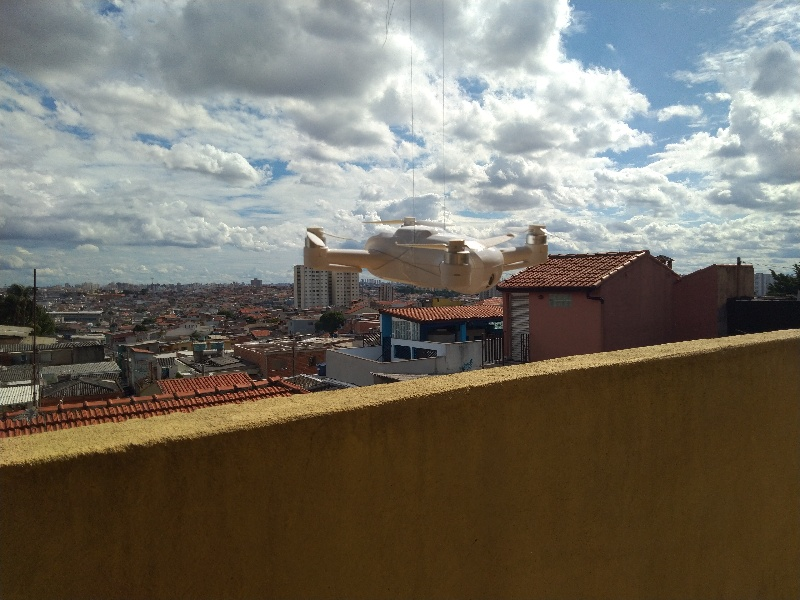drone: (298, 205, 552, 300)
